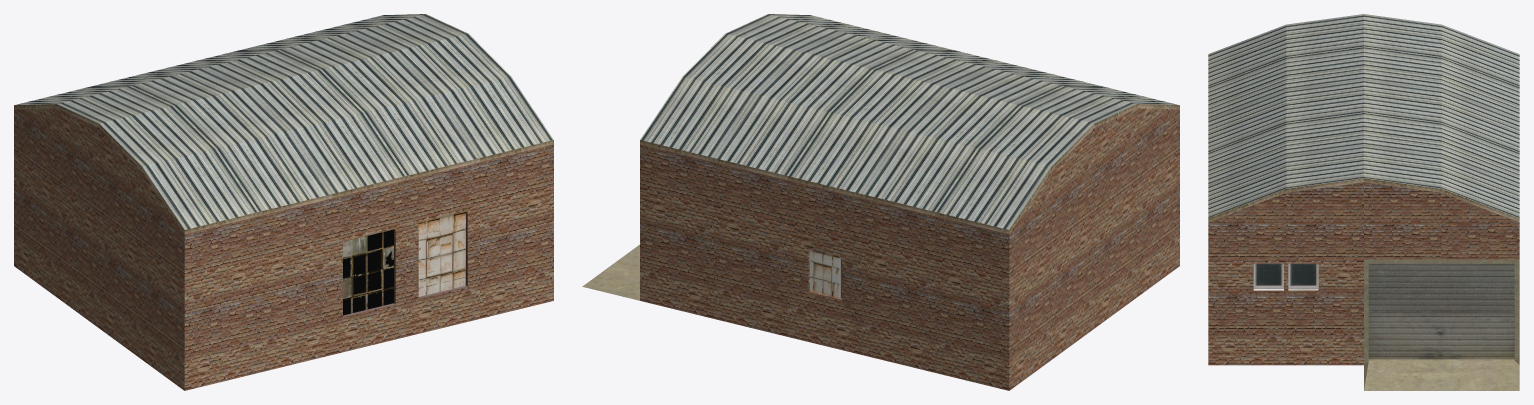
File: Urban_Hangar1_Model.fbx
3 views of the same model, side by side, from view 1: azimuth 30°, elevation 25°; view 2: azimuth 150°, elevation 25°; view 3: azimuth 270°, elevation 25° (orthographic). The views are drawn at different scales.
Visible parts, largest first — view 1: Urban_Hangar1_Mesh; view 2: Urban_Hangar1_Mesh; view 3: Urban_Hangar1_Mesh.
Boxes of the visible parts, x1=… form: Urban_Hangar1_Mesh: x1=14, y1=14, x2=553, y2=390; Urban_Hangar1_Mesh: x1=582, y1=14, x2=1179, y2=390; Urban_Hangar1_Mesh: x1=1208, y1=14, x2=1519, y2=390.
Size of the model in its own units: 8.1 by 3.71 by 5.6.
